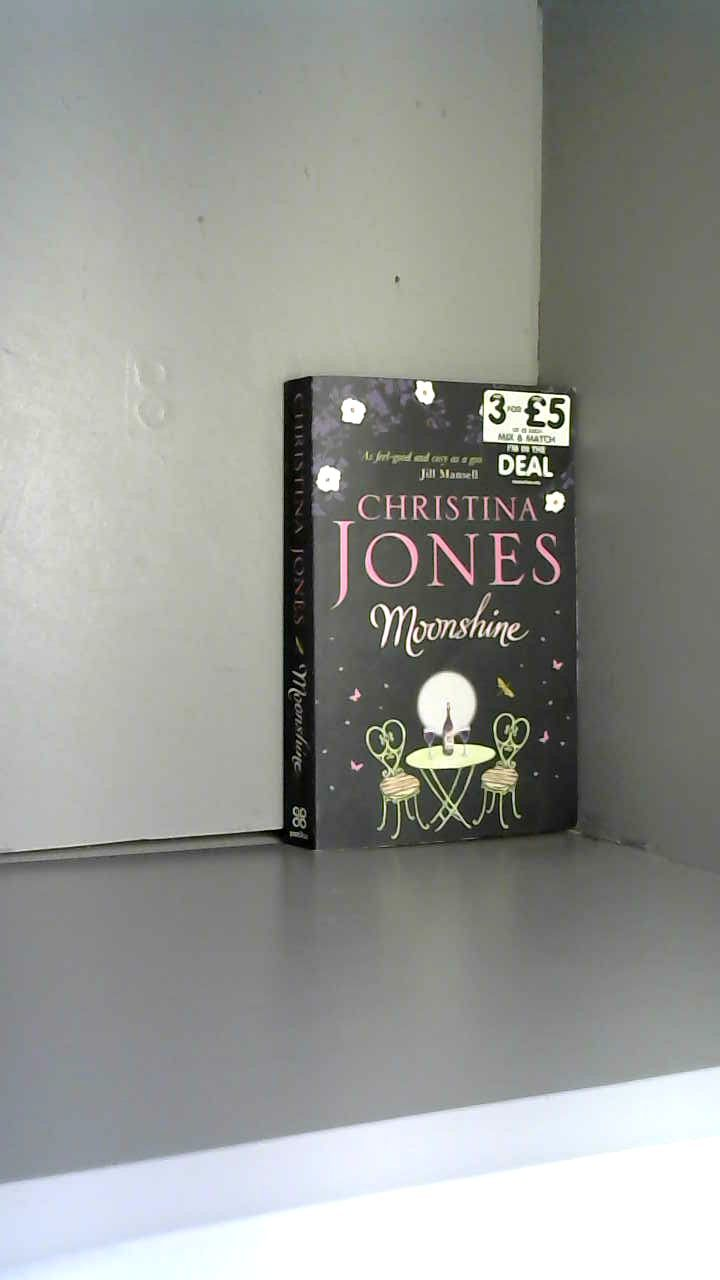book: (235, 323, 628, 908)
